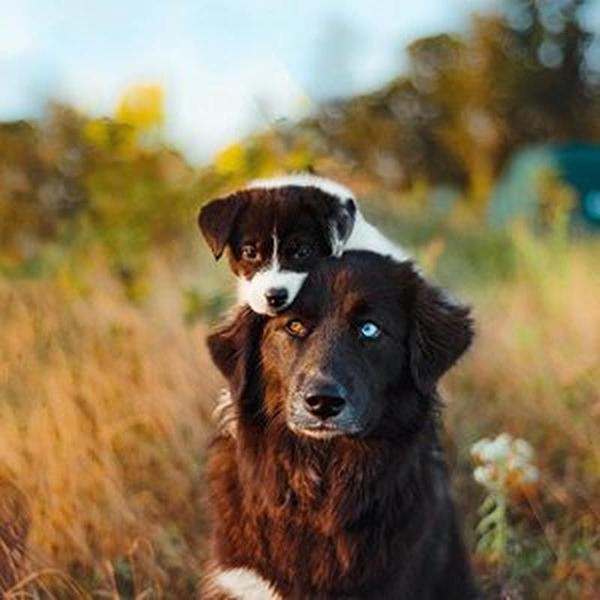allqu: (198, 252, 479, 600)
